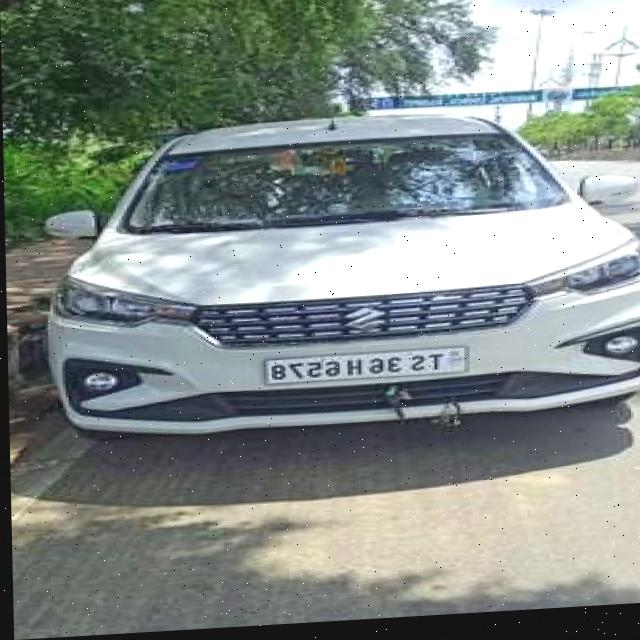plate: (255, 350, 471, 389)
